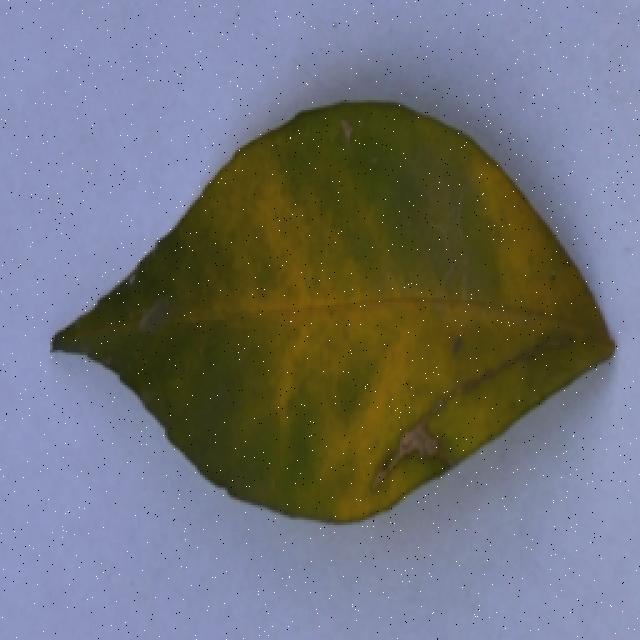greening: (40, 91, 627, 533)
